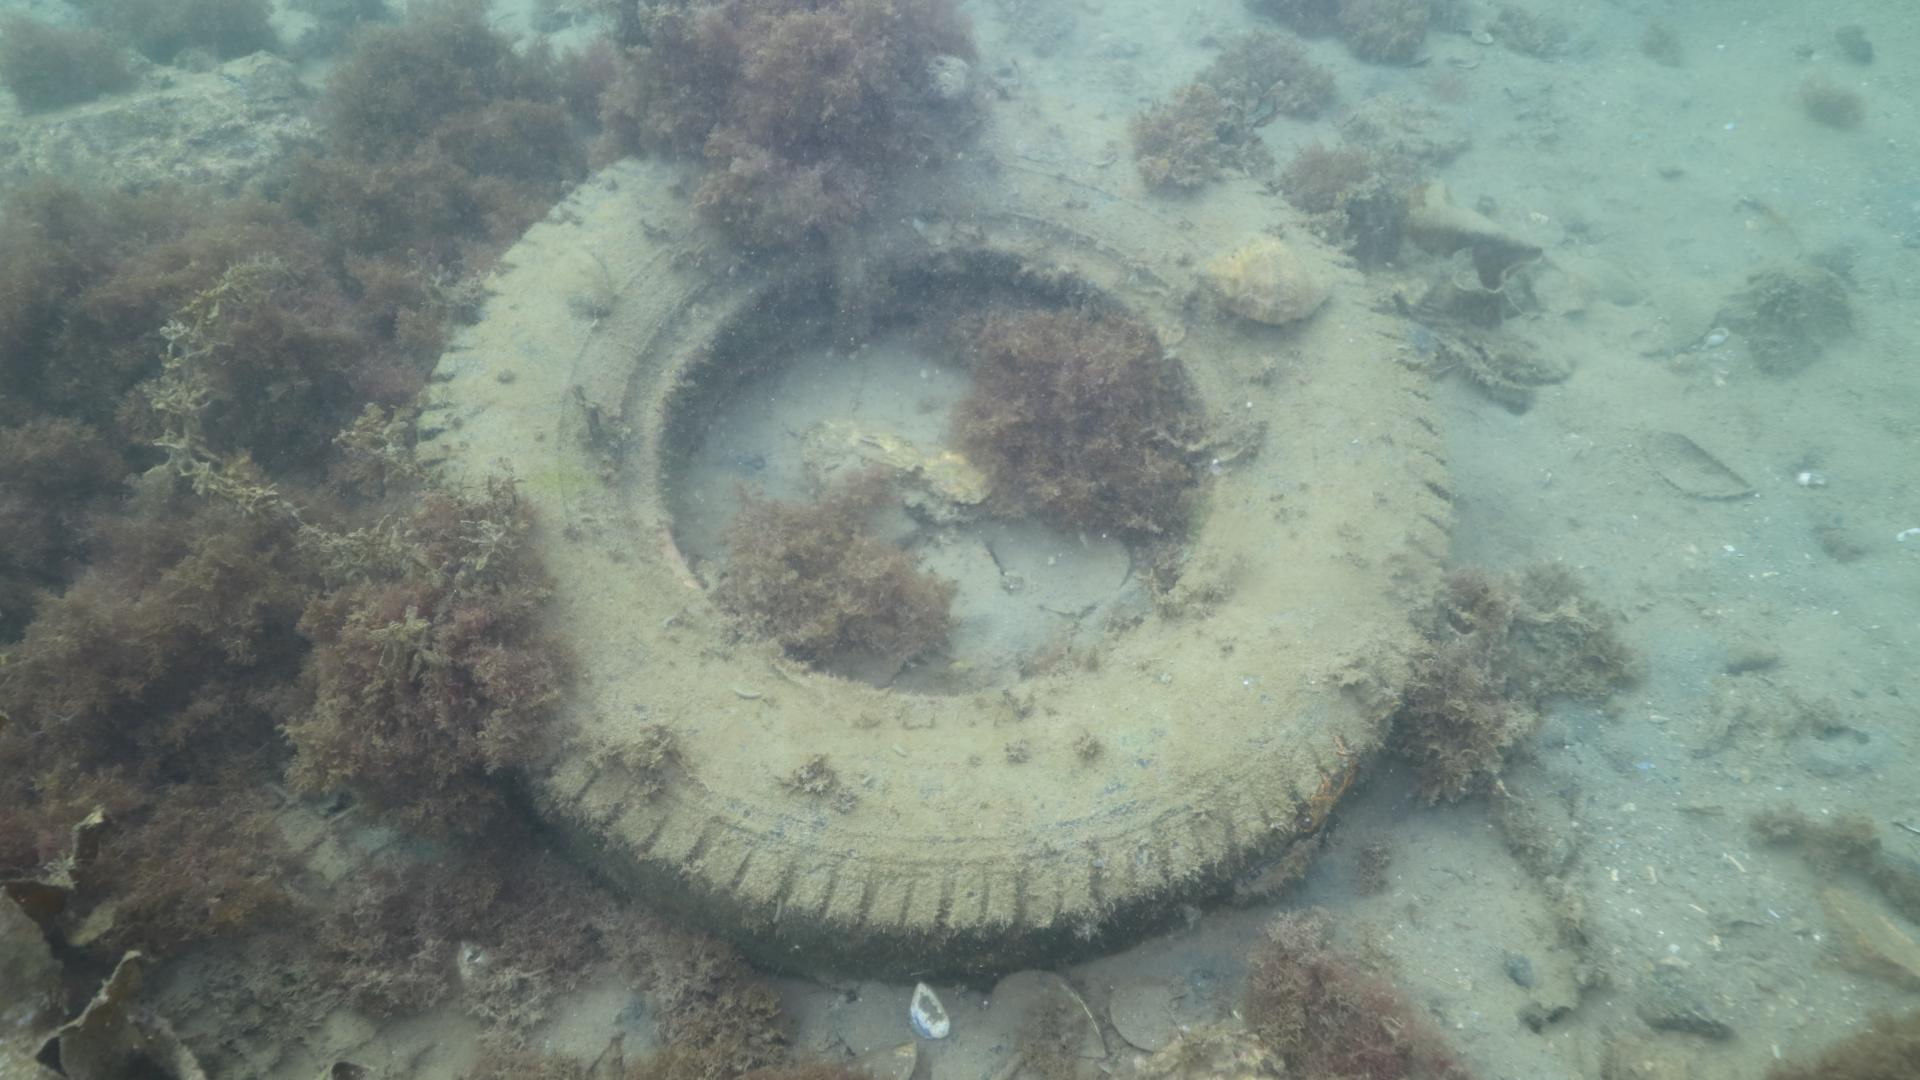tire: (411, 94, 1456, 989)
